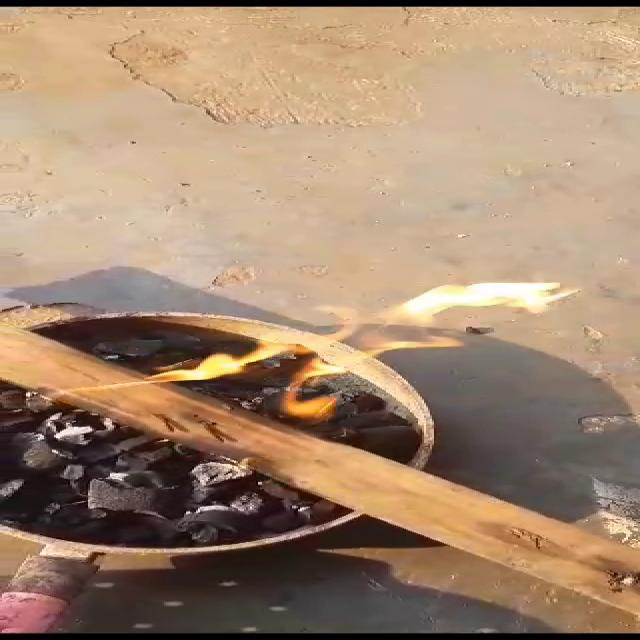Fire: (64, 260, 586, 442)
